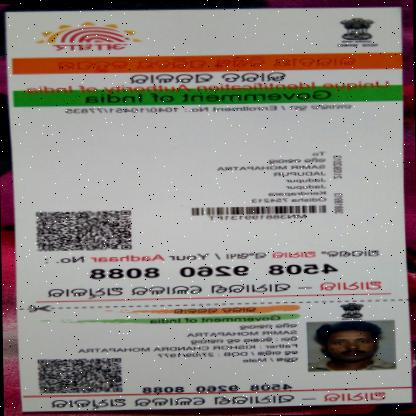aadhaar_card: (9, 5, 410, 413)
